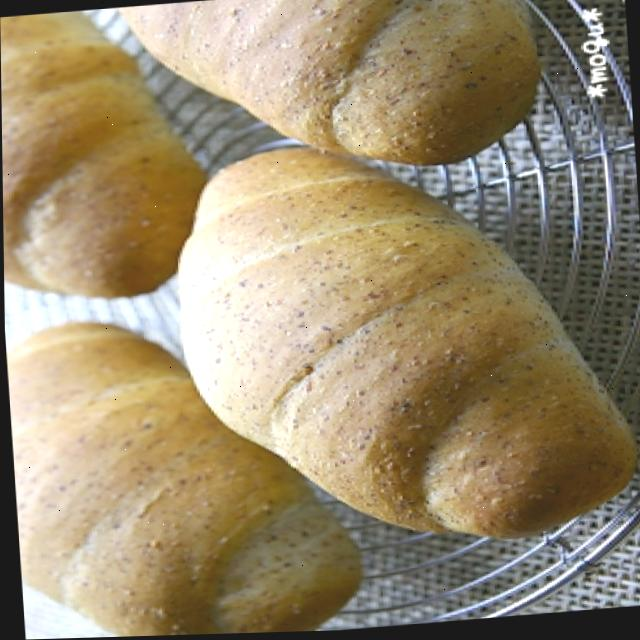面包点心: (0, 0, 595, 640)
